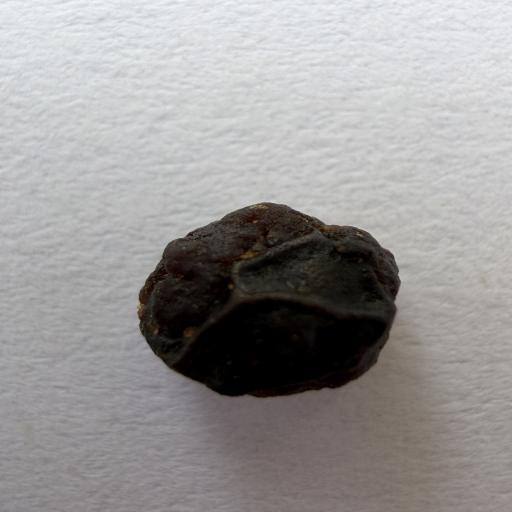Black_pepper: (108, 158, 413, 394)
